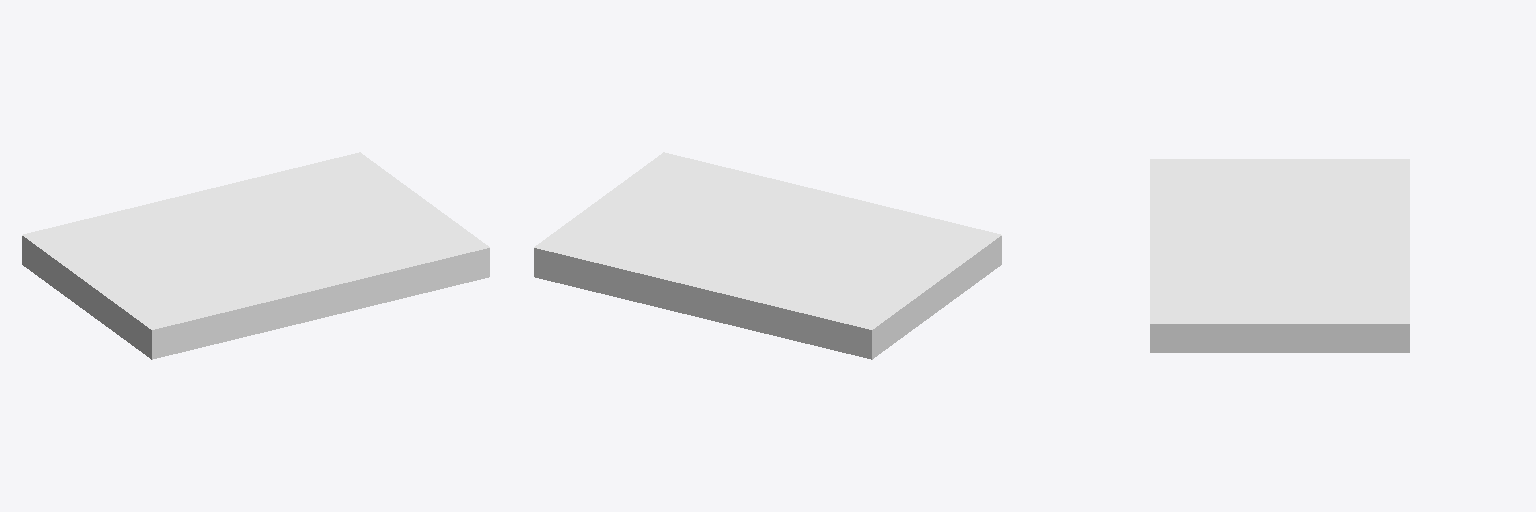
The model's file is Chunk.obj.
The picture shows the model from 3 angles: view 1: azimuth 30°, elevation 25°; view 2: azimuth 150°, elevation 25°; view 3: azimuth 270°, elevation 25°; orthographic projection.
Visible parts, largest first — view 1: object 1; view 2: object 1; view 3: object 1.
Part boxes in pixels (left/top/right/bottom): object 1: left=22, top=152, right=489, bottom=359; object 1: left=534, top=152, right=1001, bottom=359; object 1: left=1150, top=159, right=1409, bottom=352.
Size of the model in its own units: 12 by 1 by 8.